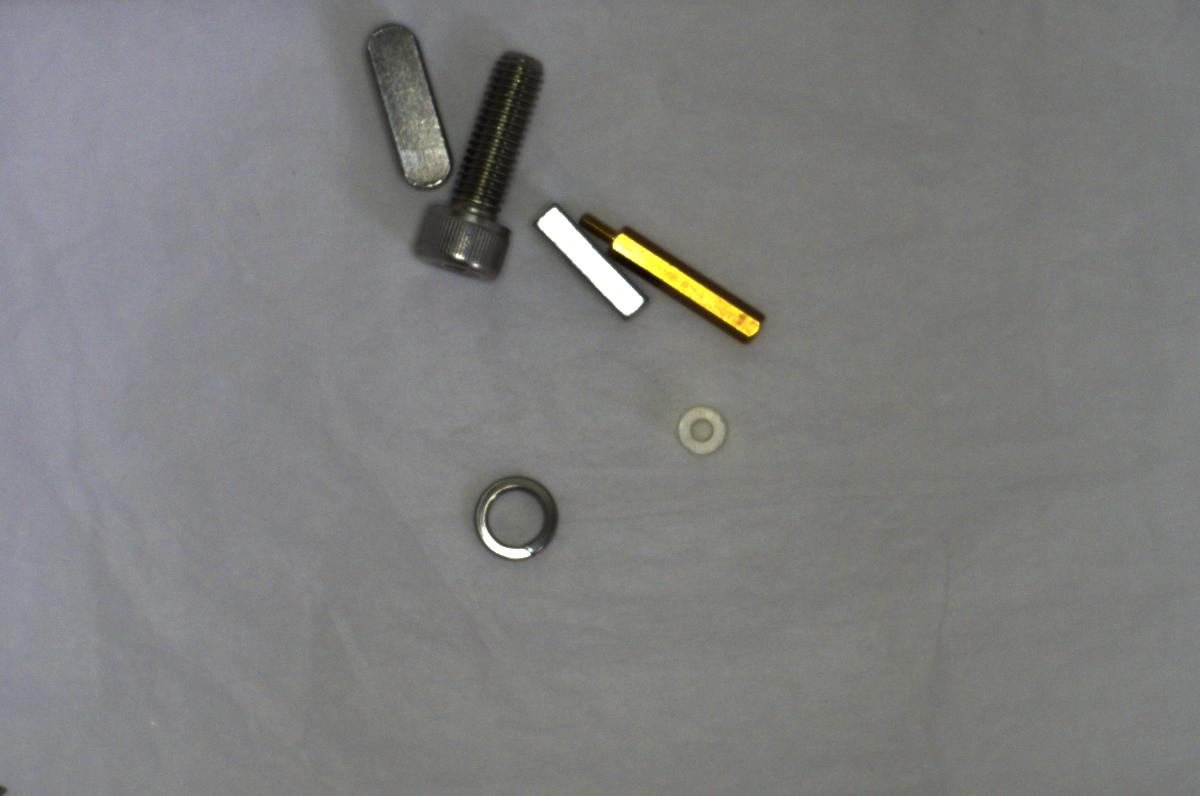Hexagon pillar: (577, 208, 768, 345)
Hexagon screw: (406, 46, 546, 274)
Keybar: (360, 20, 464, 193)
Plastic cushion pillar: (670, 398, 738, 461)
Rectangular nut: (535, 196, 651, 319)
Spring washer: (464, 467, 567, 567)
